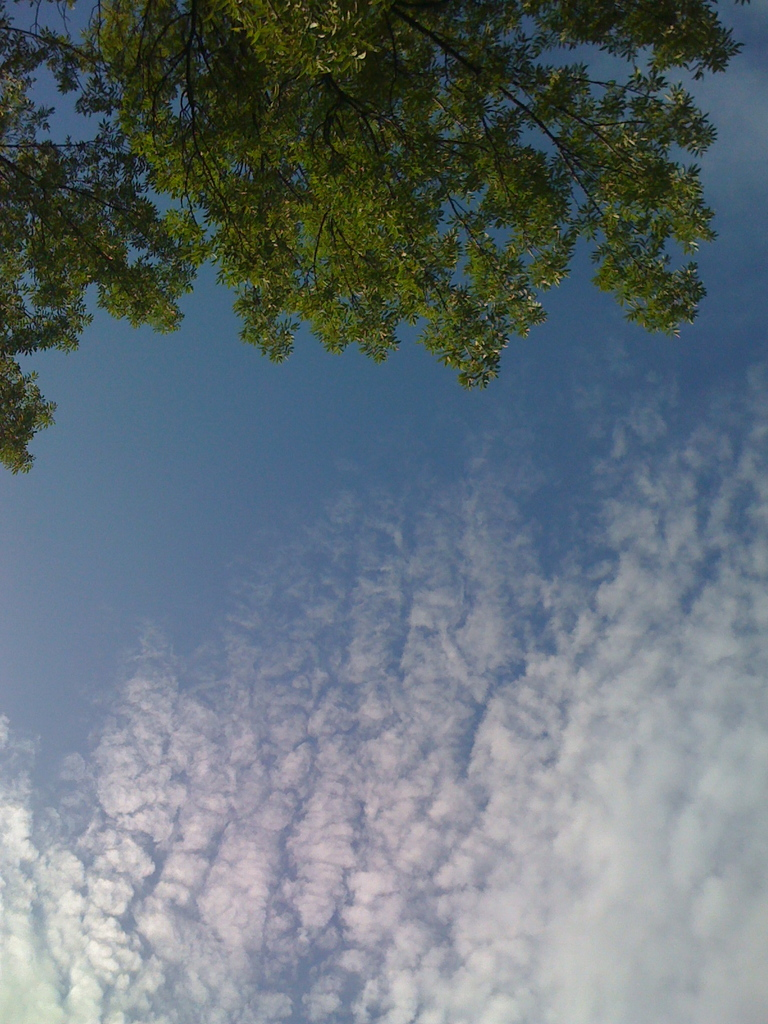Tree: (26, 1, 752, 522)
